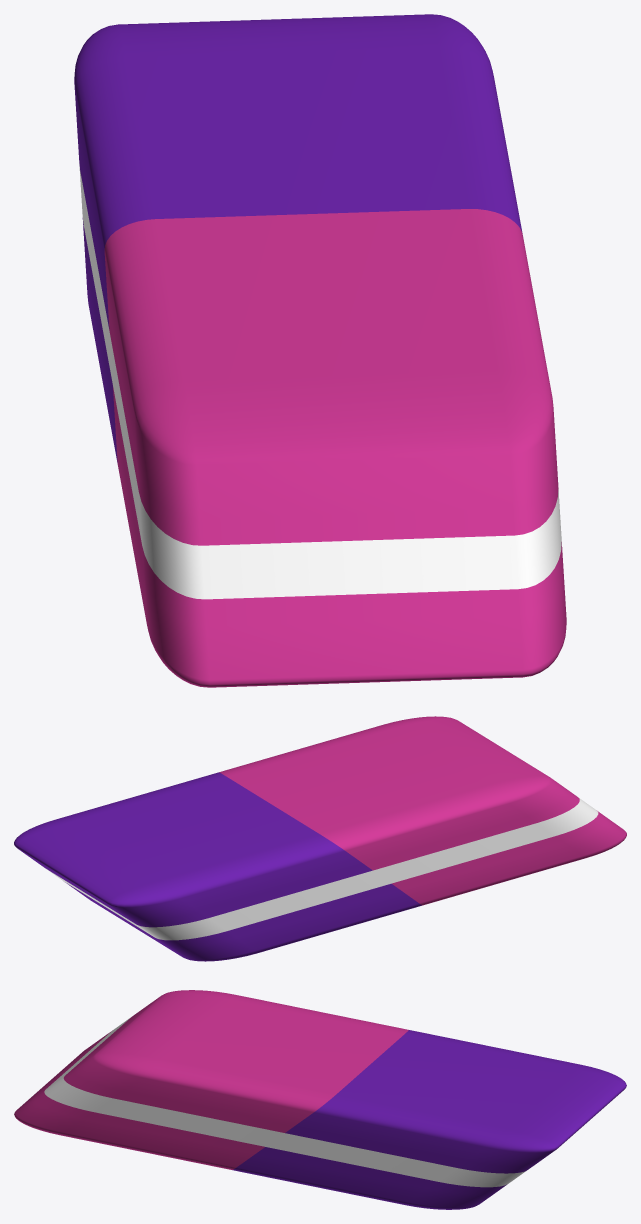
Rendered from eraser.fbx.
3 renders of one model, top to bottom at view 1: azimuth 30°, elevation 25°; view 2: azimuth 150°, elevation 25°; view 3: azimuth 270°, elevation 25°, orthographic. The views are drawn at different scales.
Parts seen in each view (by area): view 1: Cube.006; view 2: Cube.006; view 3: Cube.006.
Part boxes in pixels (x1,y1,x2,y2): Cube.006: [74, 14, 566, 687]; Cube.006: [14, 716, 626, 961]; Cube.006: [14, 990, 626, 1209].
Size of the model in its own units: 181 by 43.29 by 265.
